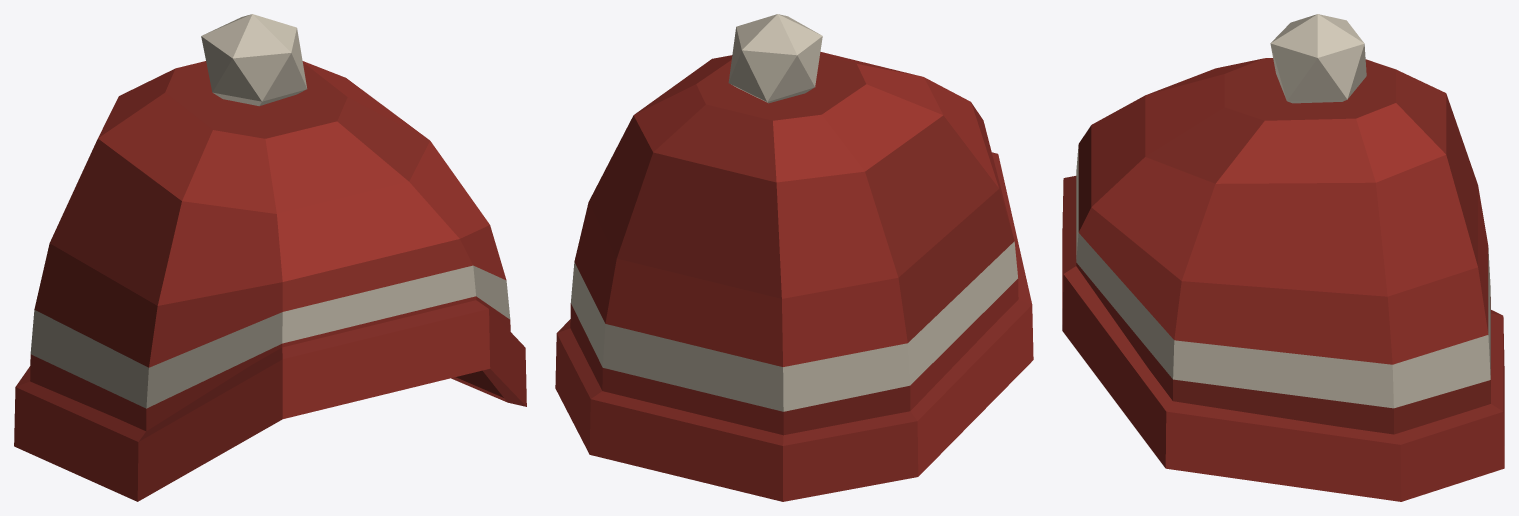
File: gorro.glb
The picture shows the model from 3 angles, left to right: view 1: azimuth 30°, elevation 25°; view 2: azimuth 150°, elevation 25°; view 3: azimuth 270°, elevation 25°; orthographic projection. The views are drawn at different scales.
Visible parts, largest first — view 1: gorro.001; view 2: gorro.001; view 3: gorro.001.
Boxes of the visible parts, x1,y1,x2,y2 form: gorro.001: [14, 14, 526, 501]; gorro.001: [555, 14, 1033, 501]; gorro.001: [1062, 14, 1504, 501].
Size of the model in its own units: 0.3497 by 0.366 by 0.361.
